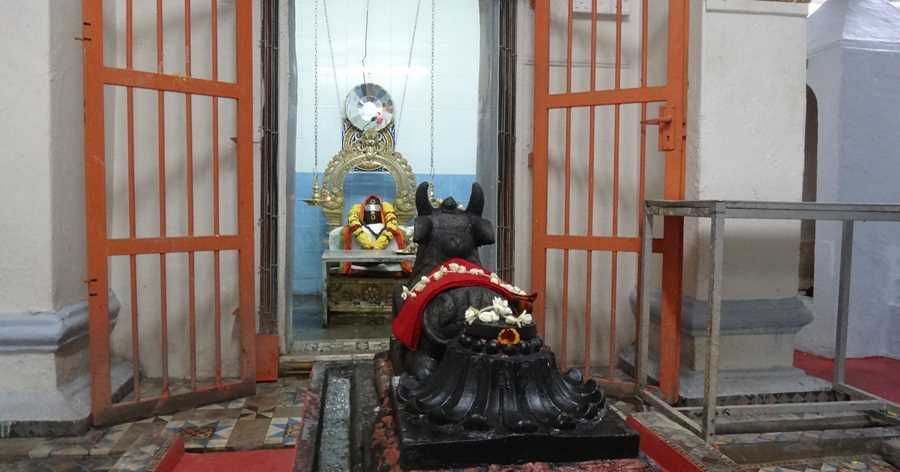Hindu Temple: (316, 117, 433, 294)
